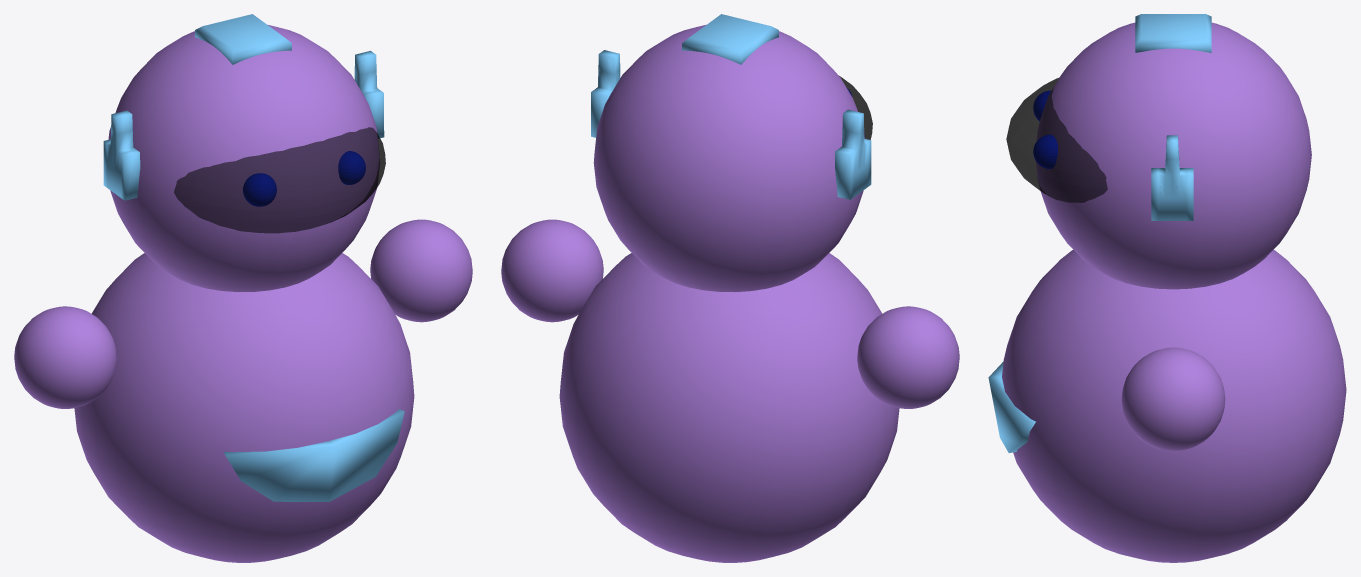
Rendered from lama.glb.
3 views of the same model, side by side, from view 1: azimuth 30°, elevation 25°; view 2: azimuth 150°, elevation 25°; view 3: azimuth 270°, elevation 25° (orthographic).
Visible parts, largest first — view 1: Body, Face, Plane.004, Arm_-1, Arm_1, eye2; view 2: Body, Face, Arm_-1, Arm_1; view 3: Body, Face, Arm_1, Plane.004, eye2.
Part boxes in pixels (bbox=[...]): Body: bbox=[74, 253, 414, 562]; Face: bbox=[103, 14, 385, 292]; Plane.004: bbox=[224, 409, 404, 501]; Arm_-1: bbox=[14, 306, 116, 408]; Arm_1: bbox=[370, 219, 472, 322]; eye2: bbox=[243, 151, 365, 206]; Body: bbox=[559, 253, 899, 562]; Face: bbox=[591, 14, 872, 292]; Arm_-1: bbox=[857, 306, 959, 408]; Arm_1: bbox=[501, 219, 603, 322]; Body: bbox=[1002, 249, 1346, 562]; Face: bbox=[1006, 14, 1311, 289]; Arm_1: bbox=[1121, 347, 1225, 451]; Plane.004: bbox=[988, 361, 1035, 452]; eye2: bbox=[1033, 91, 1057, 168].
Size of the model in its own units: 3 by 3.32 by 2.07.
